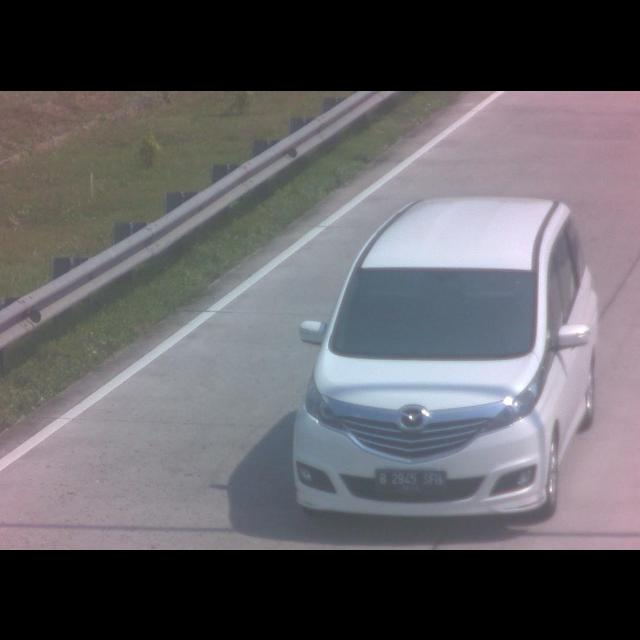plate: (374, 466, 448, 496)
